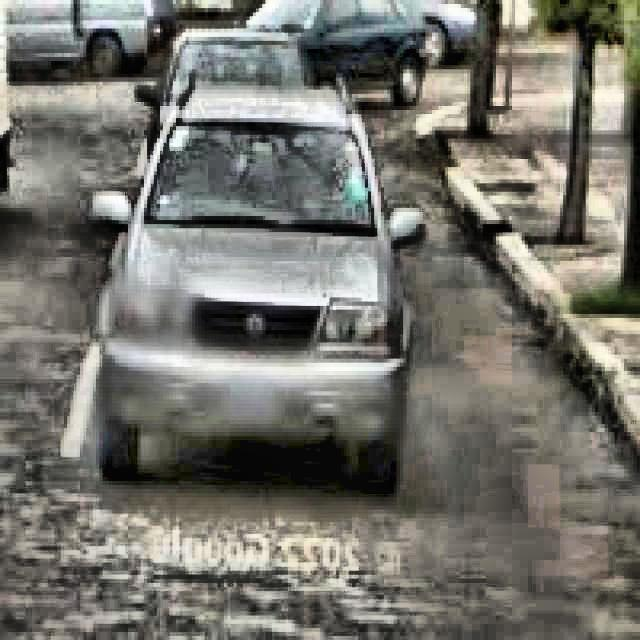carro: (85, 88, 409, 498), (243, 0, 432, 94), (154, 26, 331, 91)
